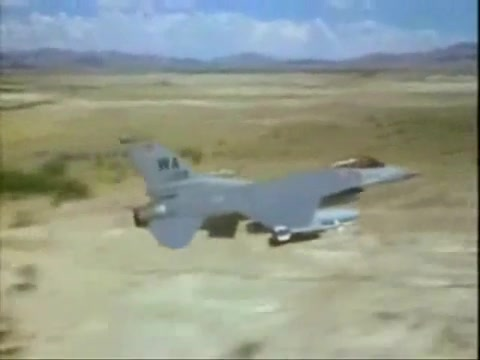aeroplane: (128, 144, 422, 250)
